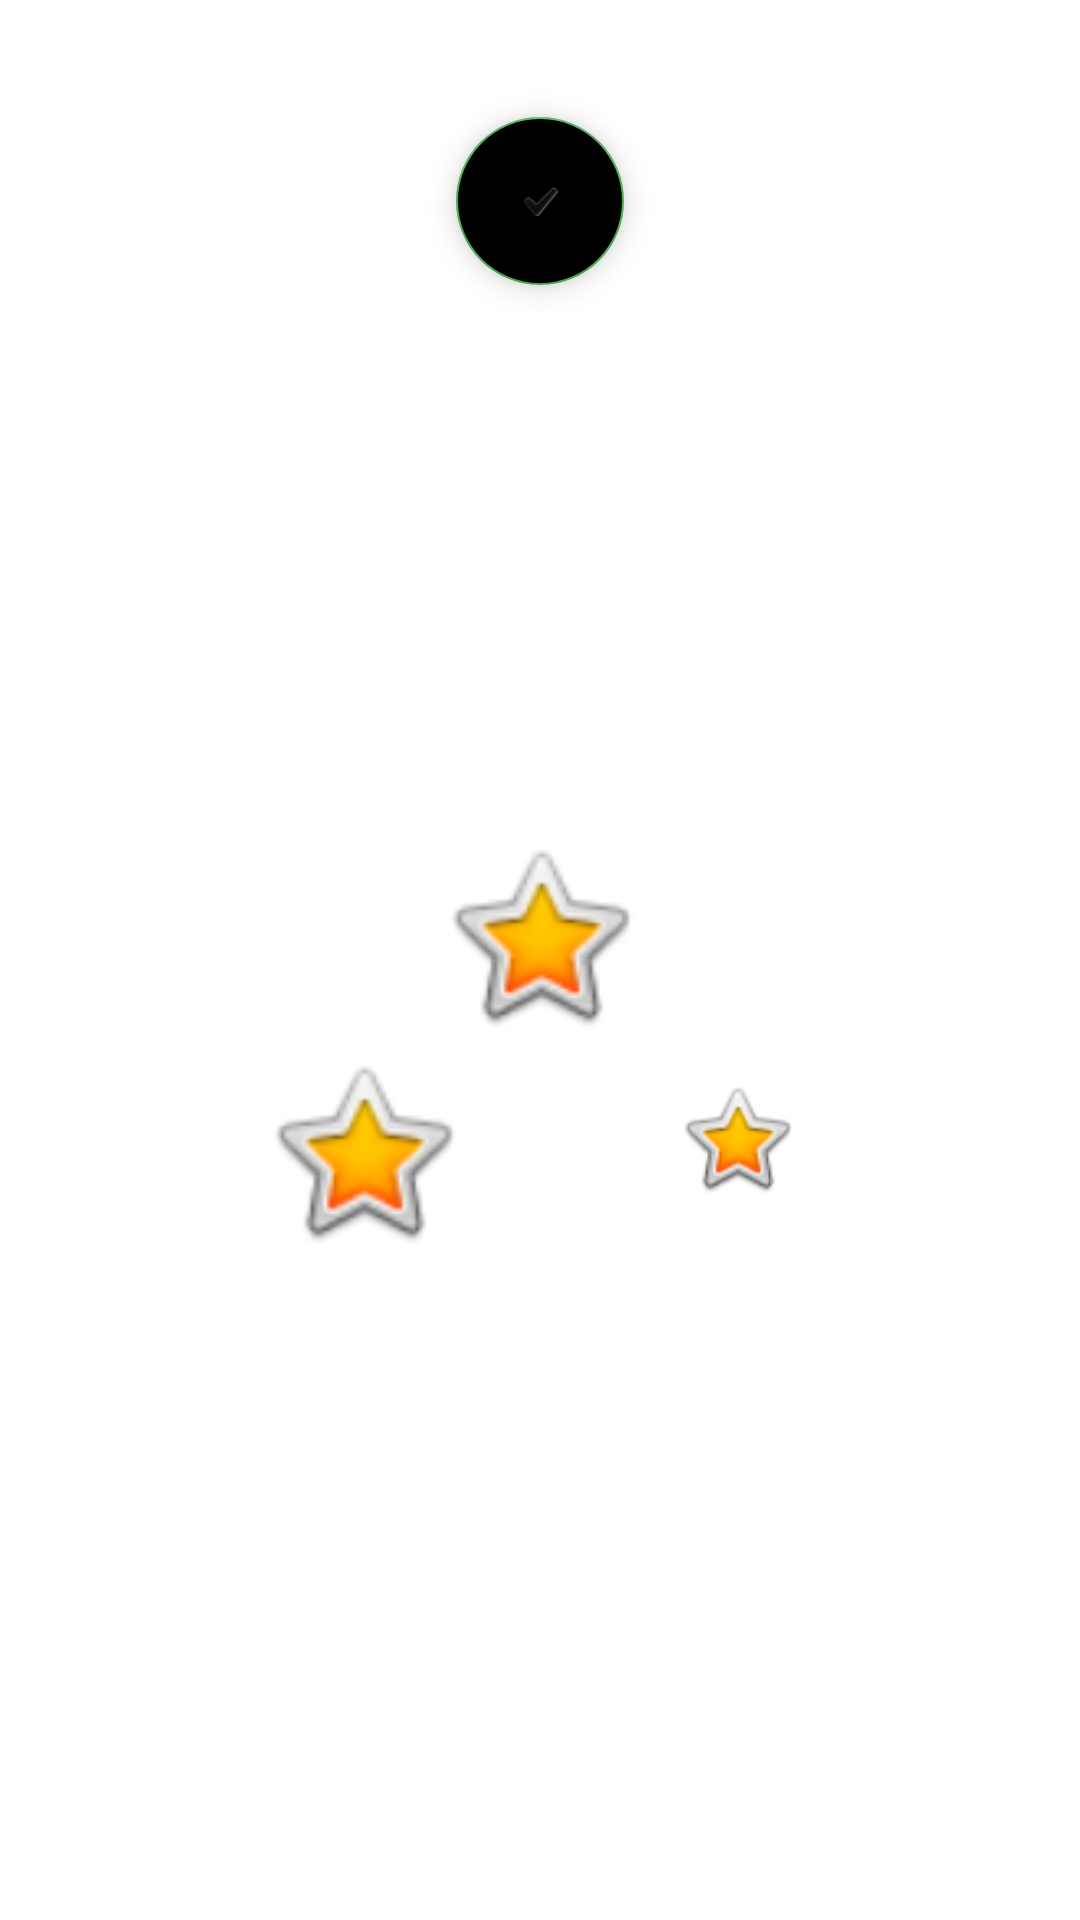

Point at icon controls on the screen. Image size 1080px×1920px, points as [x,y].
star on: [542,937], [365,1153], [738,1139]
